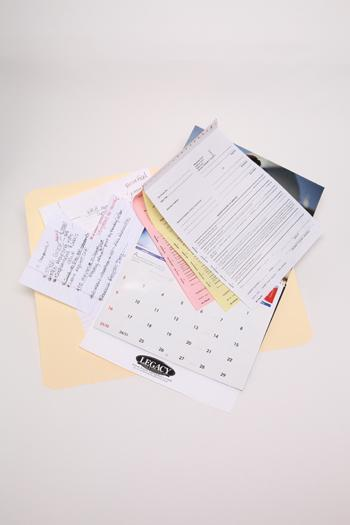paper: (21, 122, 322, 409)
